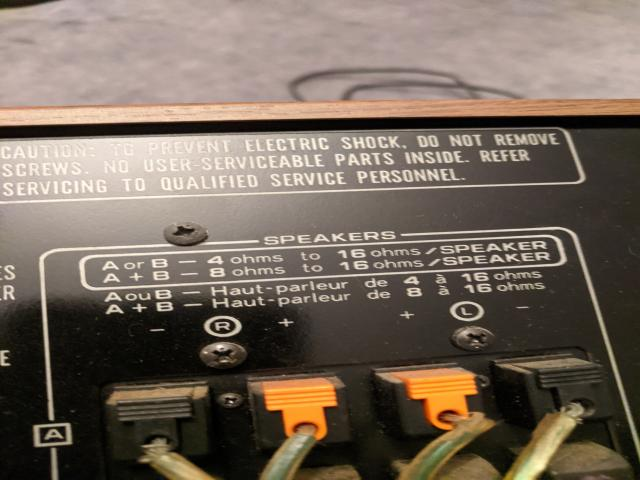CRS: (198, 343, 249, 368), (163, 222, 209, 246), (452, 325, 494, 350)
